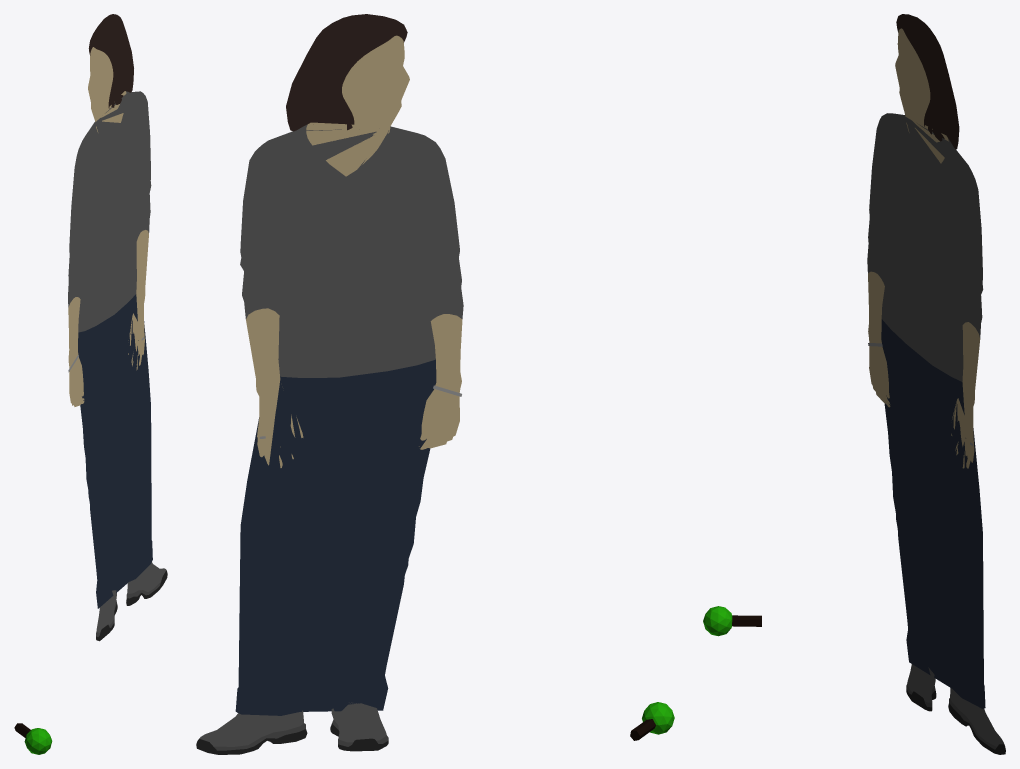
Rendered from tree.obj.
3 views of the same model, side by side, from view 1: azimuth 30°, elevation 25°; view 2: azimuth 150°, elevation 25°; view 3: azimuth 270°, elevation 25° (orthographic). The views are drawn at different scales.
Parts seen in each view (by area): view 1: Mesh1 Susan1 Model, Mesh2 Mesh_1_1 skp101_1 Model; view 2: Mesh1 Susan1 Model; view 3: Mesh1 Susan1 Model, Mesh2 Mesh_1_1 skp101_1 Model.
Boxes of the visible parts, x1=… form: Mesh1 Susan1 Model: x1=68, y1=14, x2=167, y2=641; Mesh2 Mesh_1_1 skp101_1 Model: x1=24, y1=728, x2=52, y2=754; Mesh1 Susan1 Model: x1=196, y1=14, x2=463, y2=754; Mesh1 Susan1 Model: x1=867, y1=14, x2=1005, y2=754; Mesh2 Mesh_1_1 skp101_1 Model: x1=703, y1=606, x2=732, y2=636.
Bounding box in the file's own units: 30.41 × 67.98 × 26.6.
